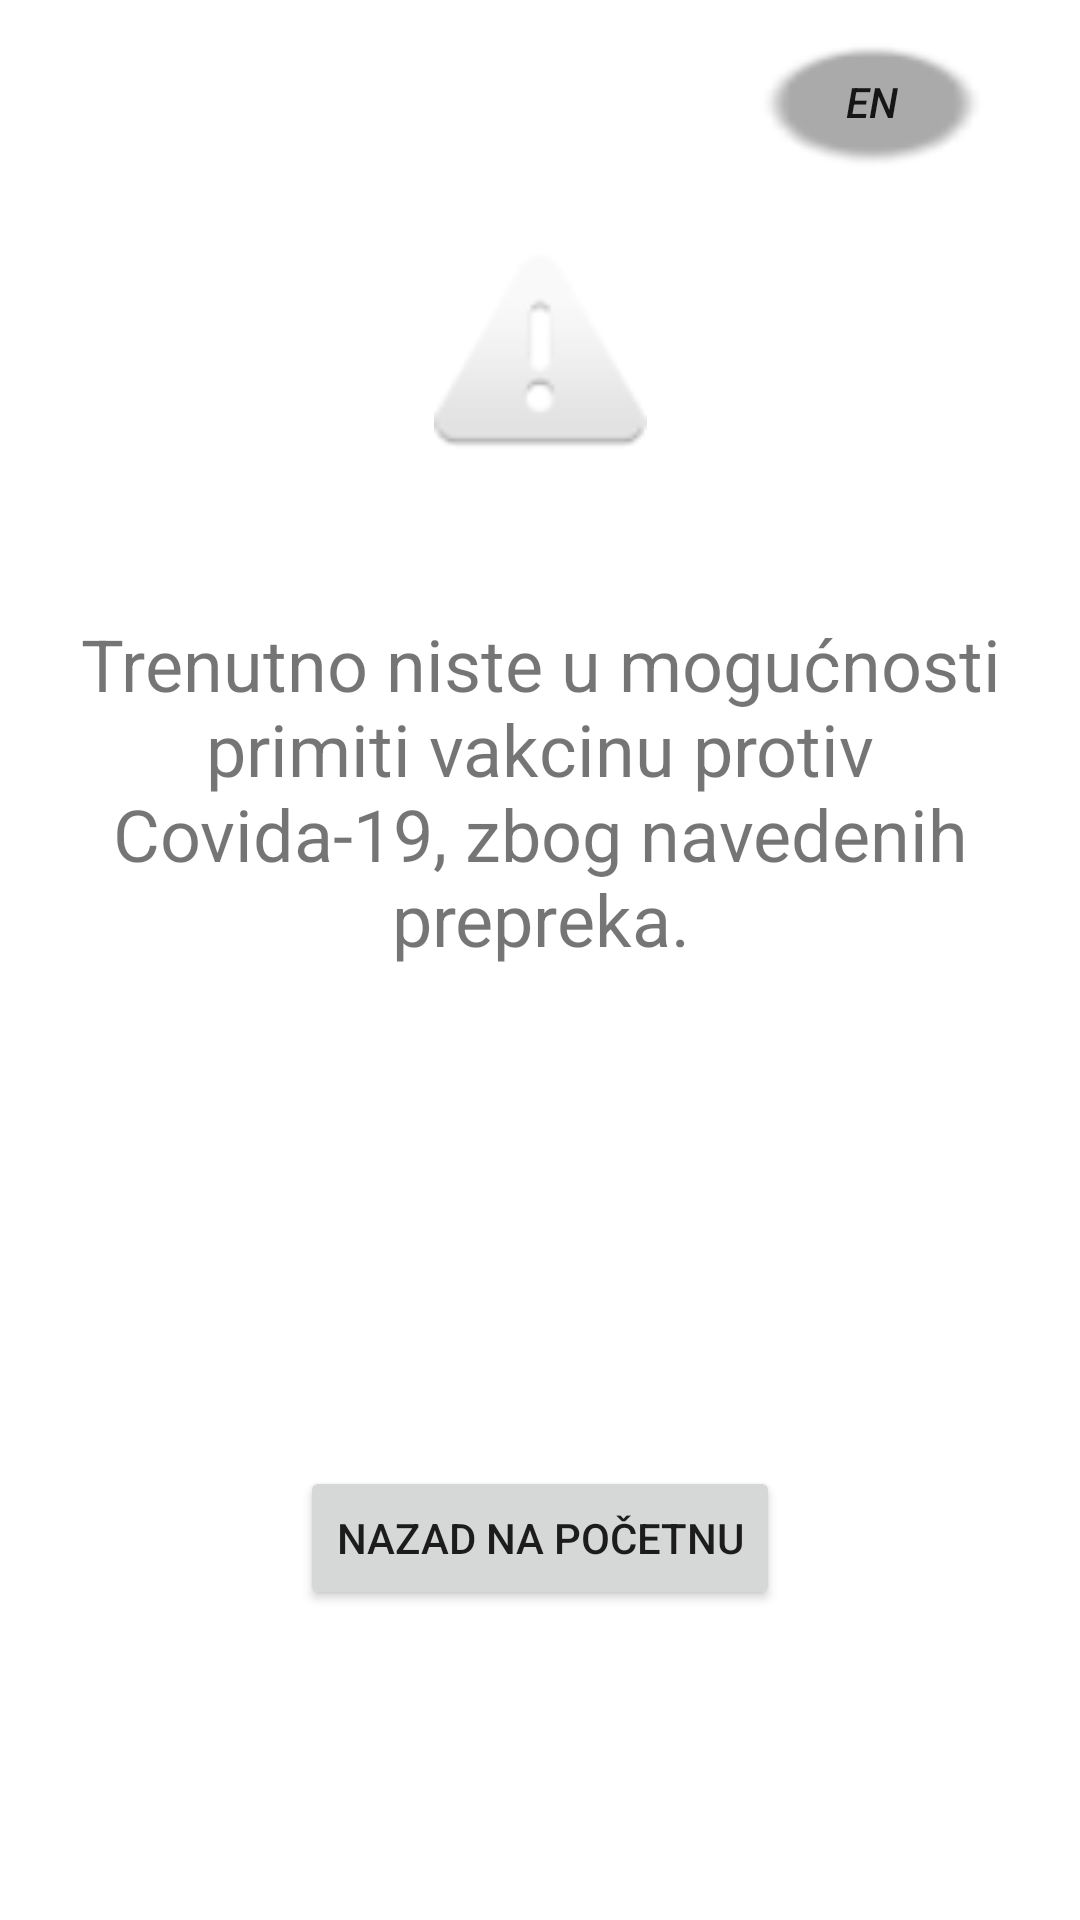

Icons on this 1080×1920 Android screen, each with its box as (x1, y1, x2, y2):
alert: (434, 301, 647, 445)
